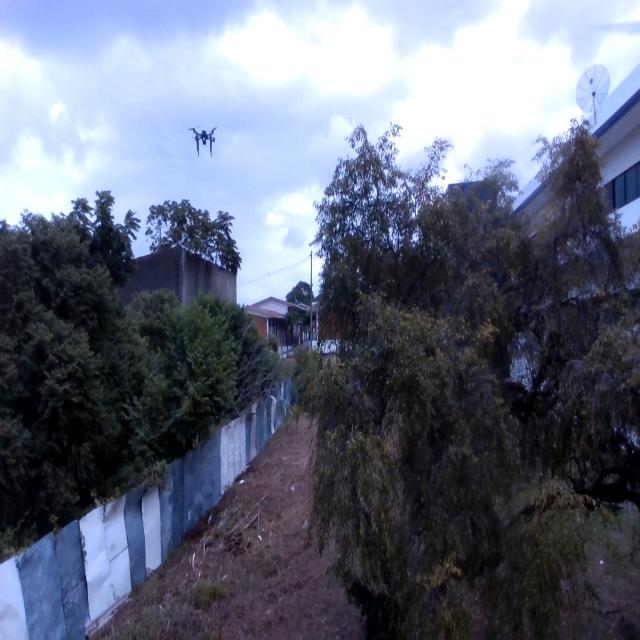-uav-: (186, 111, 222, 165)
